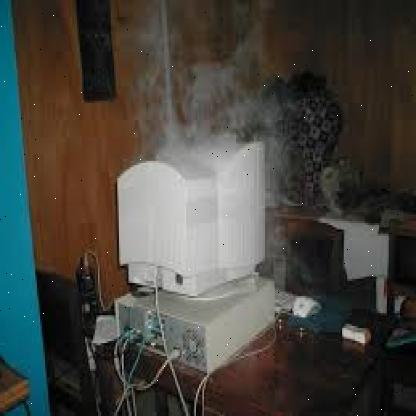smoke: (131, 0, 293, 294)
